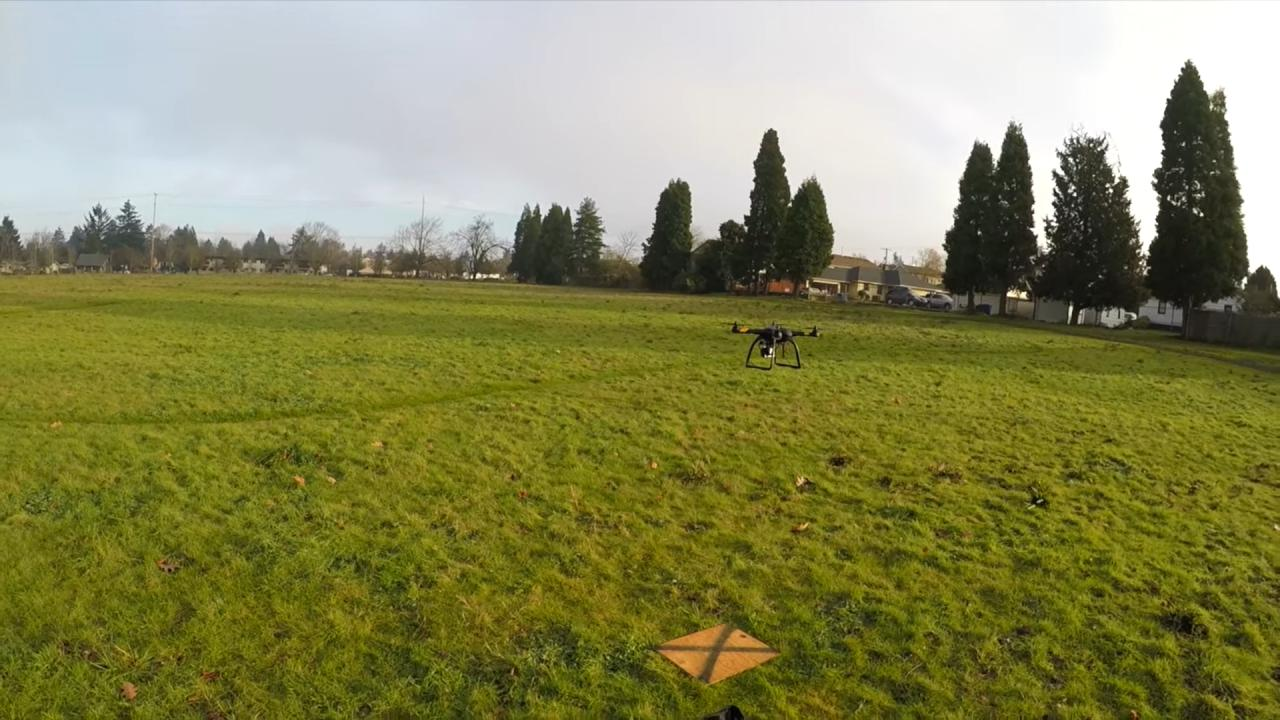Drone: (710, 316, 837, 379)
